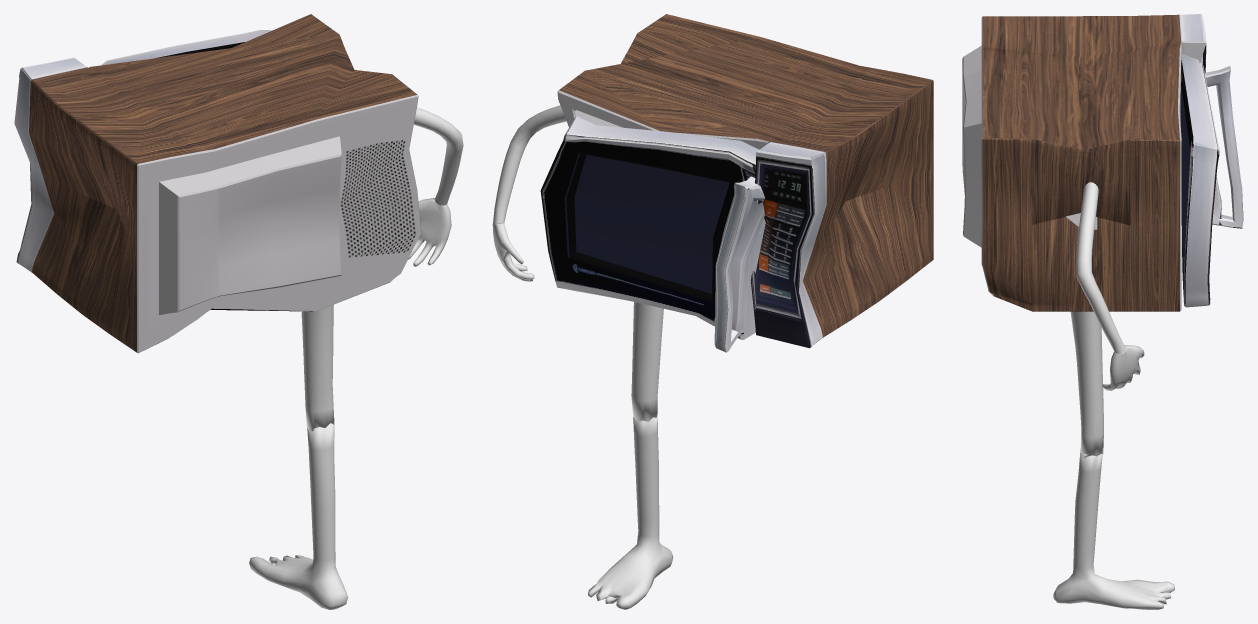
File: Microwave Ragdoll.fbx
3 views of the same model, side by side, from view 1: azimuth 30°, elevation 25°; view 2: azimuth 150°, elevation 25°; view 3: azimuth 270°, elevation 25° (orthographic). The views are drawn at different scales.
Visible parts, largest first — view 1: Microwave Body Ragdoll, Microwave Foot Ragdoll, Microwave Arm Ragdoll, Microwave Leg Ragdoll, Microwave Door Ragdoll; view 2: Microwave Body Ragdoll, Microwave Door Ragdoll, Microwave Foot Ragdoll, Microwave Leg Ragdoll, Microwave Arm Ragdoll; view 3: Microwave Body Ragdoll, Microwave Door Ragdoll, Microwave Foot Ragdoll, Microwave Arm Ragdoll, Microwave Leg Ragdoll.
Boxes of the visible parts, left/top/right/bottom form: Microwave Body Ragdoll: left=14, top=14, right=421, bottom=353; Microwave Foot Ragdoll: left=249, top=423, right=348, bottom=609; Microwave Arm Ragdoll: left=408, top=107, right=463, bottom=266; Microwave Leg Ragdoll: left=301, top=305, right=334, bottom=431; Microwave Door Ragdoll: left=101, top=30, right=272, bottom=65; Microwave Body Ragdoll: left=557, top=14, right=933, bottom=348; Microwave Door Ragdoll: left=540, top=116, right=765, bottom=352; Microwave Foot Ragdoll: left=588, top=414, right=673, bottom=609; Microwave Leg Ragdoll: left=631, top=302, right=663, bottom=421; Microwave Arm Ragdoll: left=492, top=105, right=566, bottom=281; Microwave Body Ragdoll: left=962, top=14, right=1206, bottom=311; Microwave Door Ragdoll: left=1180, top=53, right=1243, bottom=307; Microwave Foot Ragdoll: left=1053, top=447, right=1174, bottom=609; Microwave Arm Ragdoll: left=1076, top=182, right=1144, bottom=390; Microwave Leg Ragdoll: left=1070, top=311, right=1103, bottom=459.
Size of the model in its own units: 412 by 551 by 288.
